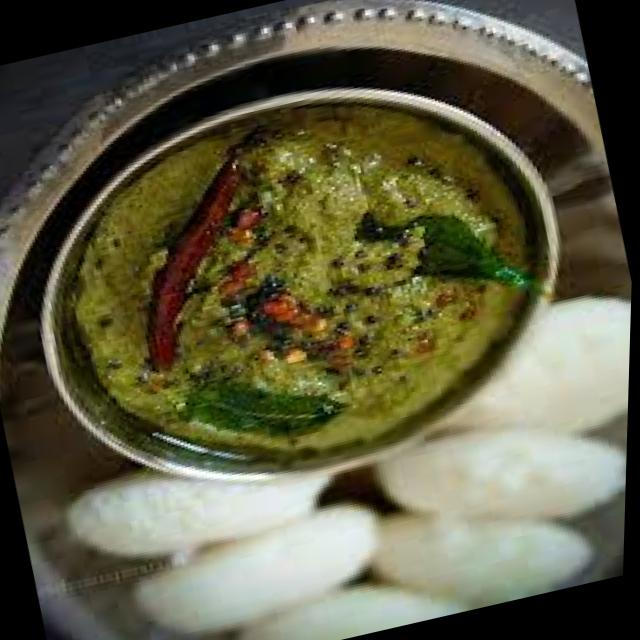GREEN CHUTNEY: (46, 92, 554, 471)
IDLI: (67, 476, 591, 640), (378, 298, 631, 516)
